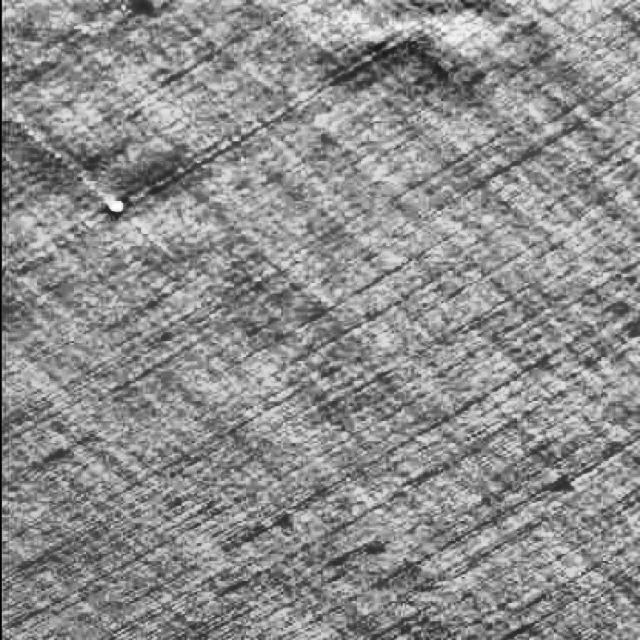hole: (104, 191, 130, 221)
